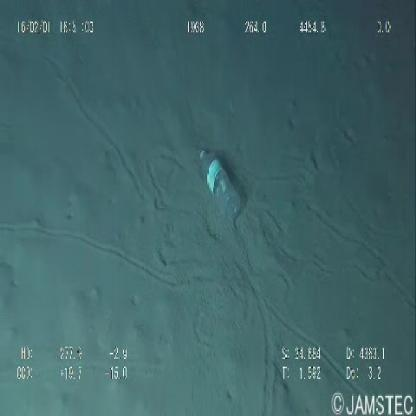Rác: (197, 142, 249, 230)
